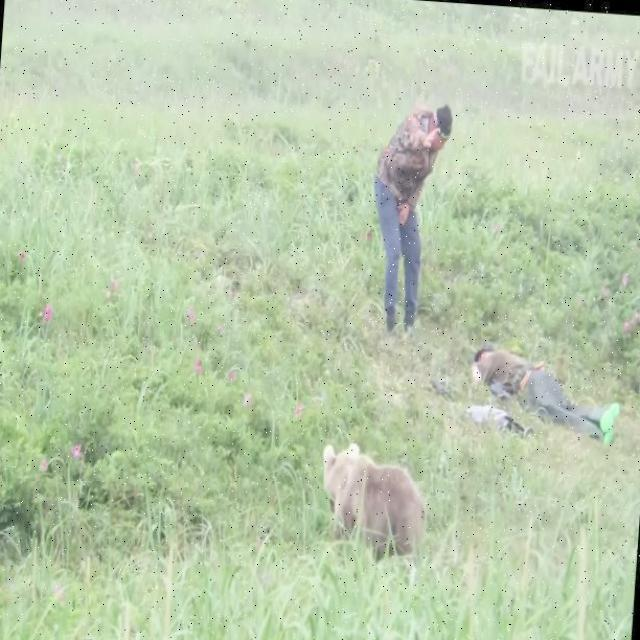person: (360, 100, 450, 333), (467, 344, 622, 449)
